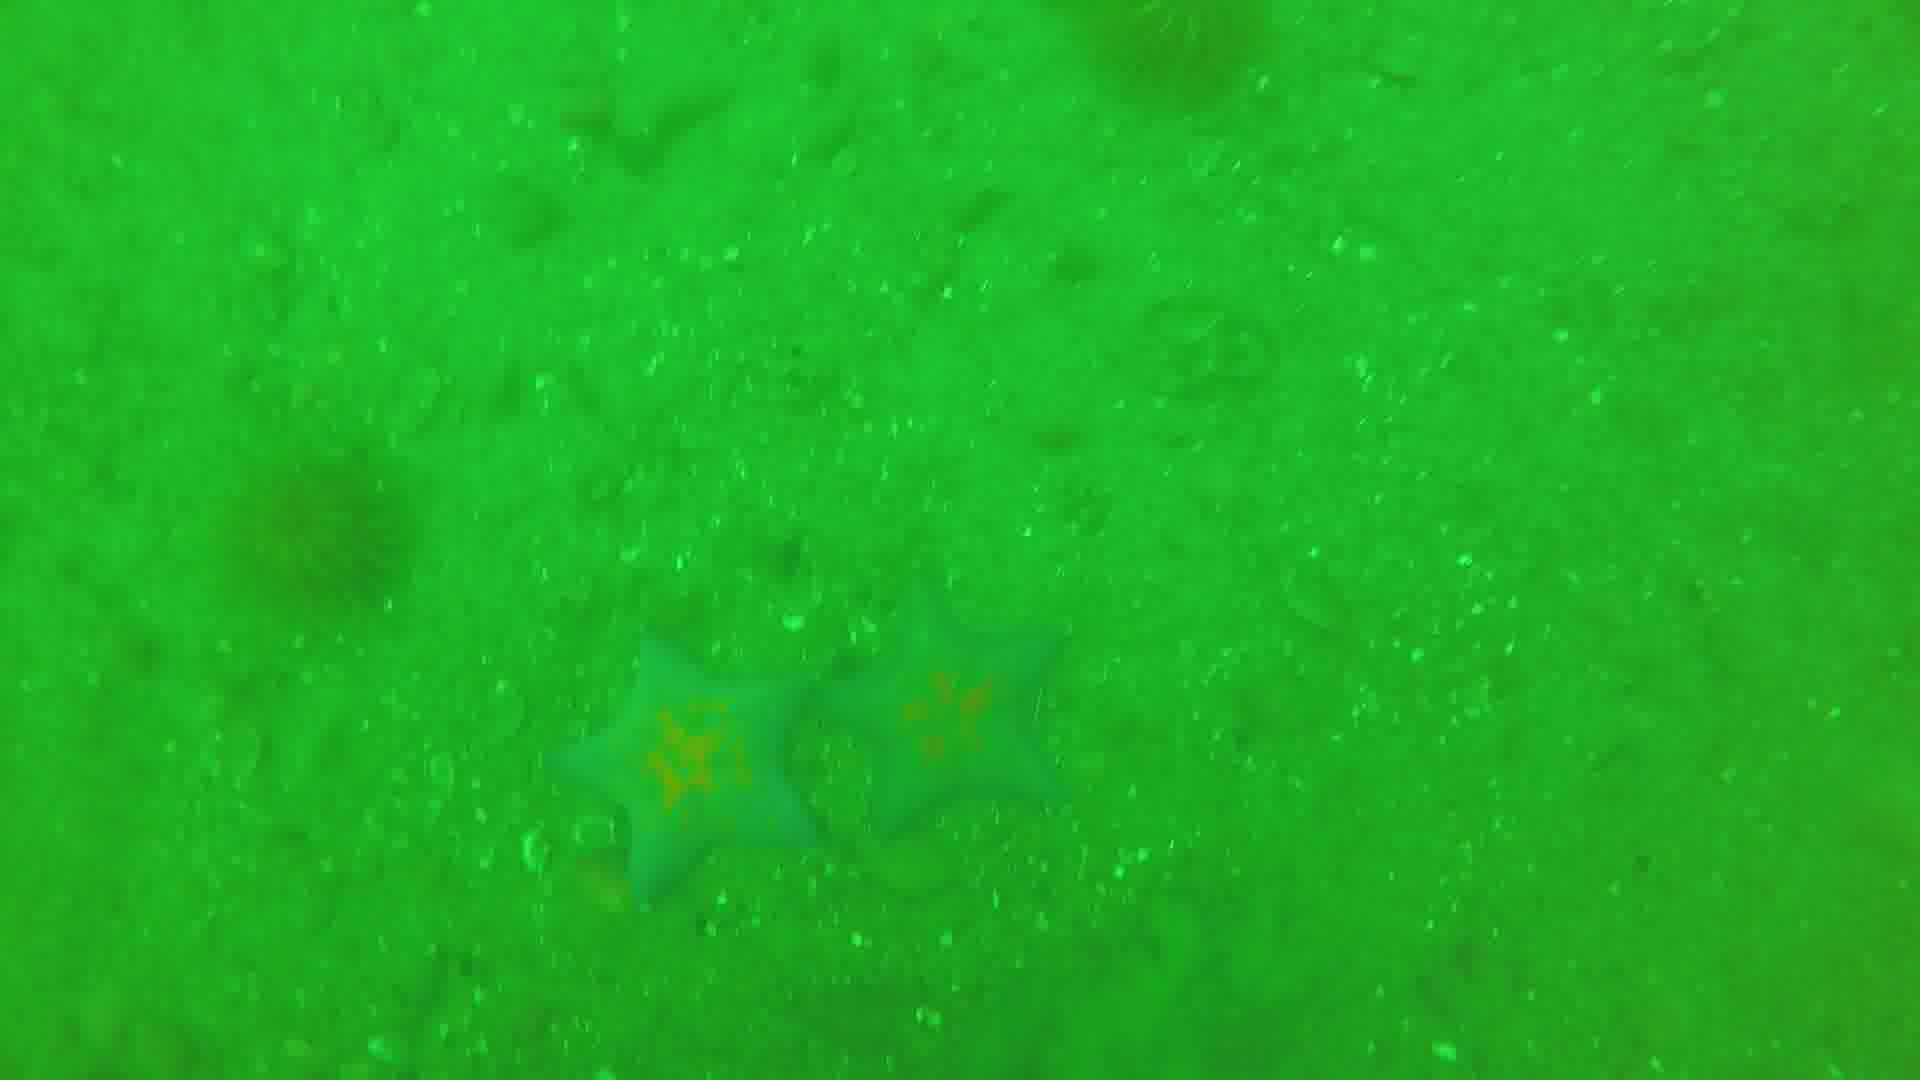echinus: (225, 444, 404, 613), (1073, 1, 1263, 105)
starfish: (563, 640, 825, 905), (823, 584, 1062, 851)
